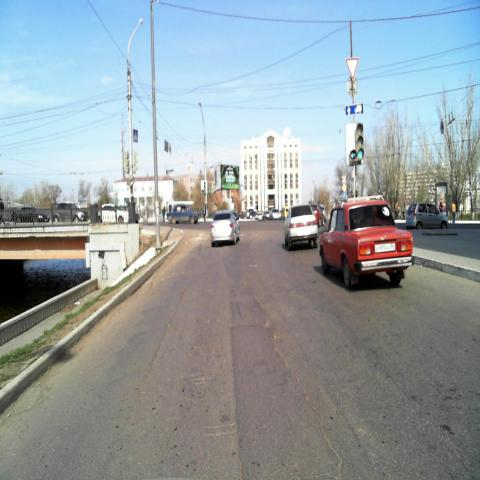6_15_1: (344, 102, 362, 116)
